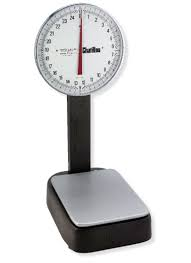Industrial Scale: (33, 2, 151, 253)
